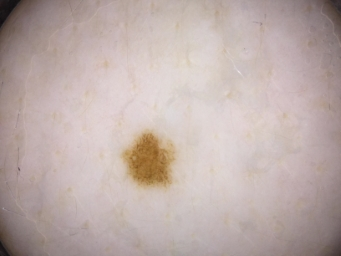seborrheic keratosis: (124, 130, 175, 186)
